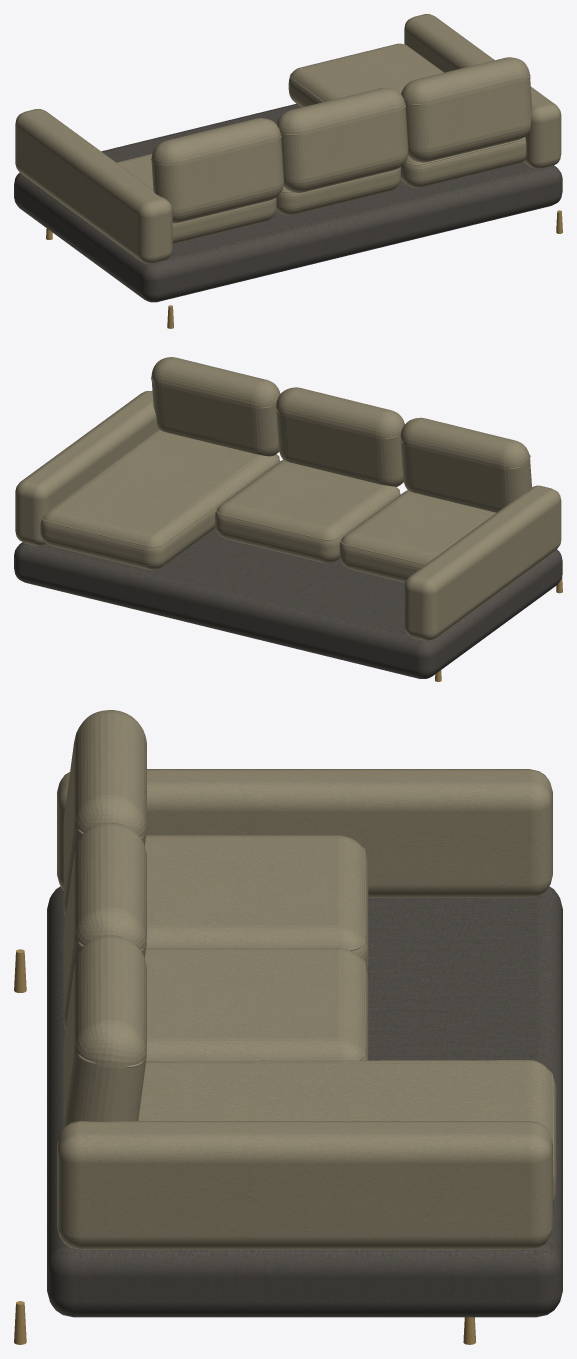
Rendered from luxury-chaise-sofa.glb.
3 views of the same model, one above another, from view 1: azimuth 30°, elevation 25°; view 2: azimuth 150°, elevation 25°; view 3: azimuth 270°, elevation 25° (orthographic). The views are drawn at different scales.
Parts seen in each view (by area): view 1: linen_0, fabric_0; view 2: linen_0, fabric_0; view 3: linen_0, fabric_0, bronze_1.
Part boxes in pixels (x1,y1,x2,y2): linen_0: (15, 14, 561, 263); fabric_0: (14, 103, 562, 302); linen_0: (15, 357, 561, 640); fabric_0: (14, 528, 562, 678); linen_0: (57, 710, 556, 1249); fabric_0: (47, 886, 562, 1317); bronze_1: (14, 949, 475, 1344).
Bounding box in the file's own units: 2.71 × 0.9937 × 1.65.
Materials: 3 (2 with a texture image).
